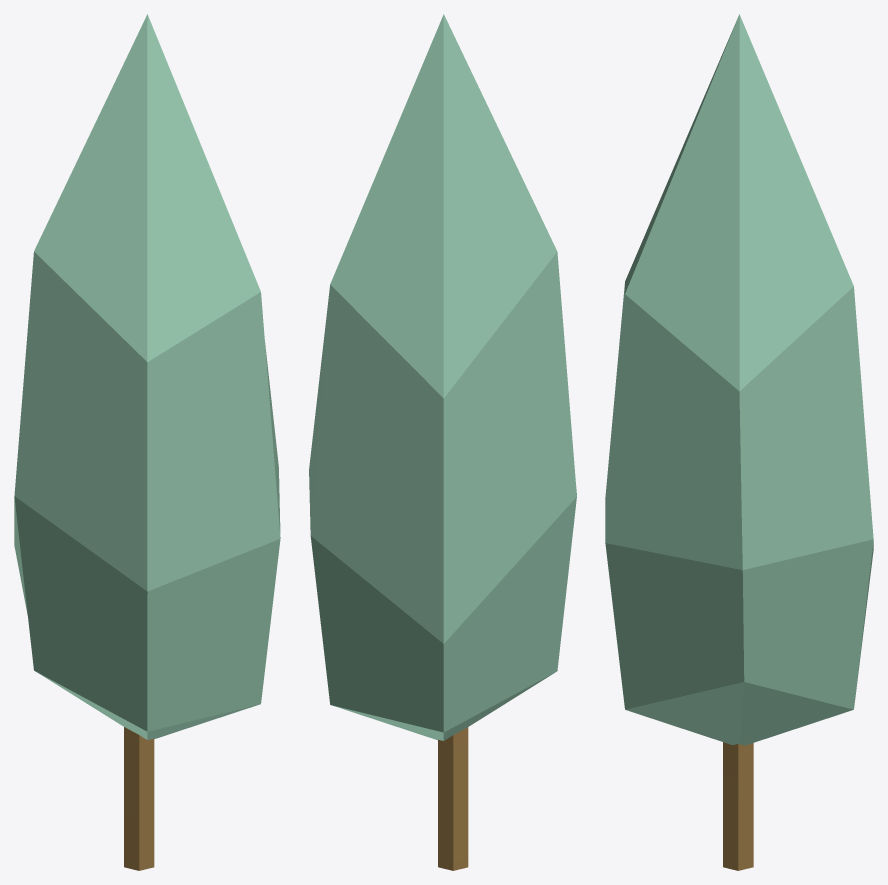
The model's file is Tree_Normal.fbx.
The picture shows the model from 3 angles, left to right: view 1: azimuth 30°, elevation 25°; view 2: azimuth 150°, elevation 25°; view 3: azimuth 270°, elevation 25°; orthographic projection.
Visible parts, largest first — view 1: Pine_trees2; view 2: Pine_trees2; view 3: Pine_trees2.
Part boxes in pixels (x1,y1,x2,y2): Pine_trees2: (14,14,280,870); Pine_trees2: (309,14,576,870); Pine_trees2: (605,14,873,870).
Size of the model in its own units: 4.98 by 15.15 by 4.31.
